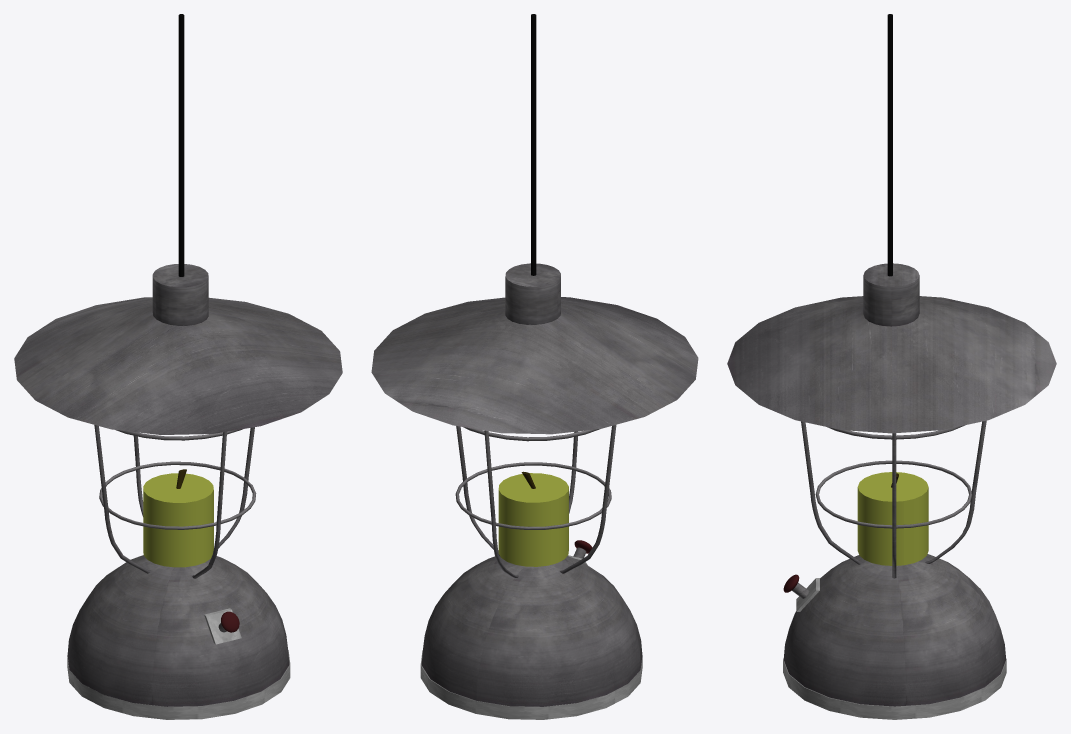
Rendered from lampara_techo.obj.
The picture shows the model from 3 angles, left to right: view 1: azimuth 30°, elevation 25°; view 2: azimuth 150°, elevation 25°; view 3: azimuth 270°, elevation 25°; orthographic projection.
Parts seen in each view (by area): view 1: lampara_techo:pCylinder5polySurface14, lampara_techo:pCylinder5polySurface6, lampara_techo:pCylinder5polySurface13, lampara_techo:pCylinder5polySurface12, lampara_techo:pCylinder5polySurface1, lampara_techo:pCylinder5polySurface7, lampara_techo:pCylinder5polySurface5, lampara_techo:pCylinder5polySurface3, lampara_techo:pCylinder5polySurface4; view 2: lampara_techo:pCylinder5polySurface14, lampara_techo:pCylinder5polySurface6, lampara_techo:pCylinder5polySurface13, lampara_techo:pCylinder5polySurface12, lampara_techo:pCylinder5polySurface1, lampara_techo:pCylinder5polySurface7, lampara_techo:pCylinder5polySurface5, lampara_techo:pCylinder5polySurface3, lampara_techo:pCylinder5polySurface10; view 3: lampara_techo:pCylinder5polySurface14, lampara_techo:pCylinder5polySurface6, lampara_techo:pCylinder5polySurface13, lampara_techo:pCylinder5polySurface12, lampara_techo:pCylinder5polySurface1, lampara_techo:pCylinder5polySurface3, lampara_techo:pCylinder5polySurface5, lampara_techo:pCylinder5polySurface7, lampara_techo:pCylinder5polySurface10.
Boxes of the visible parts, x1,y1,x2,y2 form: lampara_techo:pCylinder5polySurface14: [14, 264, 342, 434]; lampara_techo:pCylinder5polySurface6: [67, 555, 289, 706]; lampara_techo:pCylinder5polySurface13: [143, 473, 213, 567]; lampara_techo:pCylinder5polySurface12: [67, 650, 290, 719]; lampara_techo:pCylinder5polySurface1: [178, 14, 184, 276]; lampara_techo:pCylinder5polySurface7: [94, 425, 254, 573]; lampara_techo:pCylinder5polySurface5: [99, 461, 256, 529]; lampara_techo:pCylinder5polySurface3: [133, 431, 226, 578]; lampara_techo:pCylinder5polySurface4: [204, 608, 241, 644]; lampara_techo:pCylinder5polySurface14: [371, 263, 698, 434]; lampara_techo:pCylinder5polySurface6: [421, 555, 642, 706]; lampara_techo:pCylinder5polySurface13: [498, 473, 568, 566]; lampara_techo:pCylinder5polySurface12: [420, 650, 642, 719]; lampara_techo:pCylinder5polySurface1: [531, 14, 536, 275]; lampara_techo:pCylinder5polySurface7: [456, 425, 616, 573]; lampara_techo:pCylinder5polySurface5: [455, 462, 611, 529]; lampara_techo:pCylinder5polySurface3: [484, 430, 578, 577]; lampara_techo:pCylinder5polySurface10: [463, 427, 599, 441]; lampara_techo:pCylinder5polySurface14: [727, 263, 1056, 433]; lampara_techo:pCylinder5polySurface6: [783, 554, 1006, 706]; lampara_techo:pCylinder5polySurface13: [857, 472, 928, 565]; lampara_techo:pCylinder5polySurface12: [783, 658, 1006, 719]; lampara_techo:pCylinder5polySurface1: [887, 14, 892, 276]; lampara_techo:pCylinder5polySurface3: [801, 420, 986, 564]; lampara_techo:pCylinder5polySurface5: [815, 460, 972, 528]; lampara_techo:pCylinder5polySurface7: [892, 433, 896, 578]; lampara_techo:pCylinder5polySurface10: [827, 425, 964, 439].
Bounding box in the file's own units: 3.01 × 6.64 × 3.01.
Materials: 7 (2 with a texture image).
